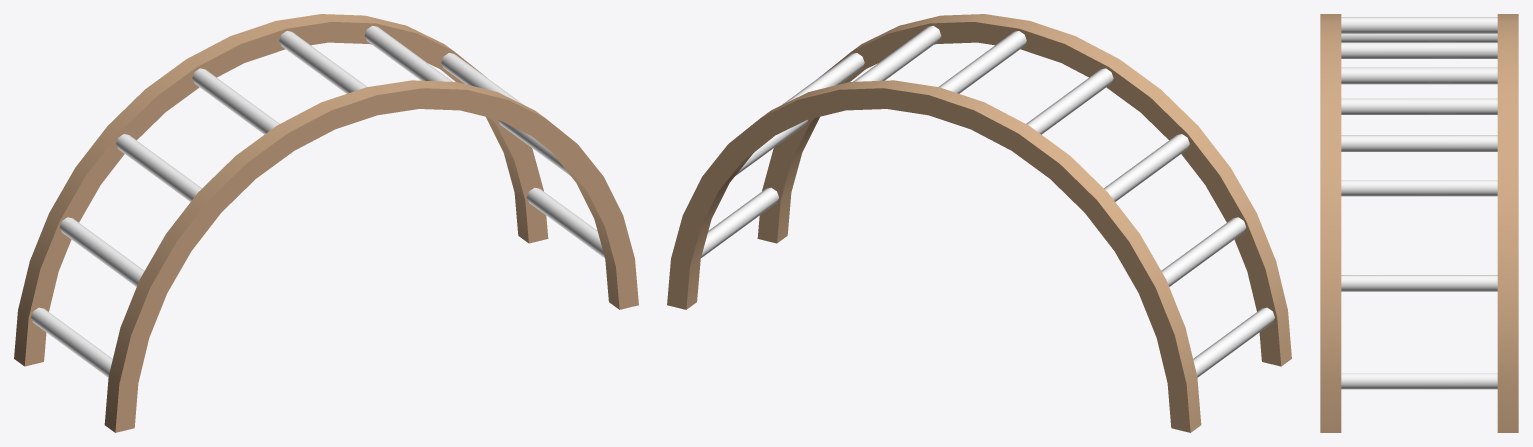
Rendered from 039 Climbing.FBX.
The picture shows the model from 3 angles, left to right: view 1: azimuth 30°, elevation 25°; view 2: azimuth 150°, elevation 25°; view 3: azimuth 270°, elevation 25°; orthographic projection. The views are drawn at different scales.
Parts seen in each view (by area): view 1: Tube003; view 2: Tube003; view 3: Tube003.
Part boxes in pixels (bbox=[...]): Tube003: bbox=[14, 14, 638, 432]; Tube003: bbox=[667, 14, 1291, 432]; Tube003: bbox=[1320, 14, 1518, 432].
Size of the model in its own units: 289 by 145 by 96.92.
